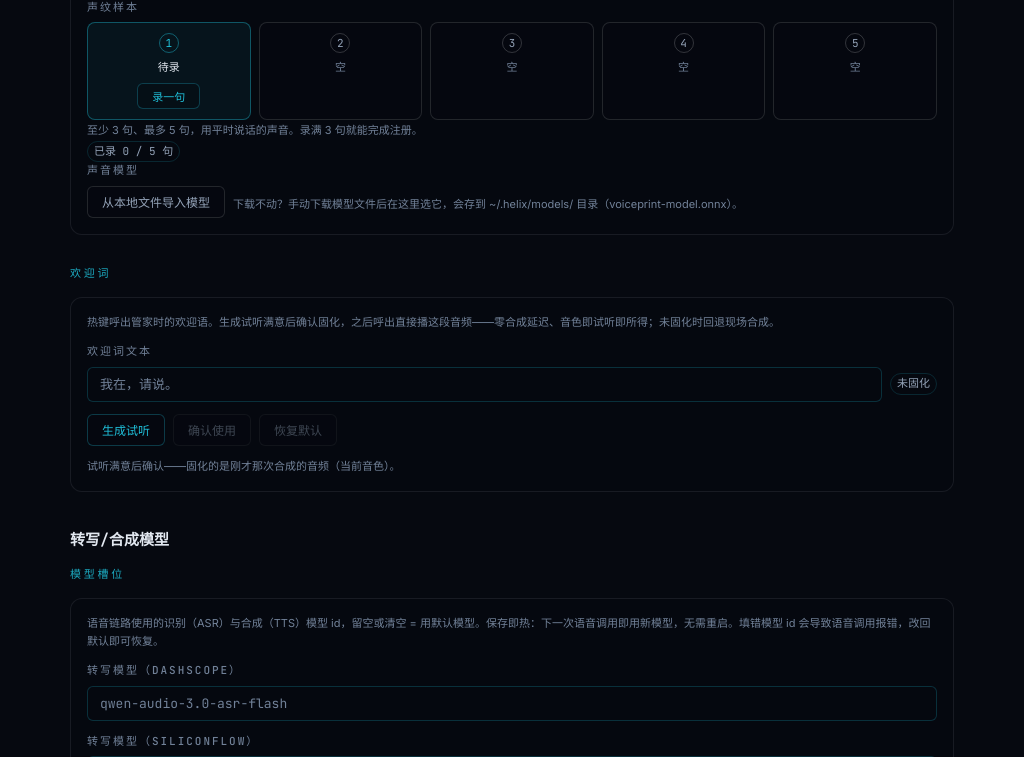
it: 欢迎词工坊（生成试听 → 确认固化 → 恢复默认） › 生成失败（status error）：toast 报错，确认钮保持禁用
The width and height of the screenshot is (1024, 757).
(page scrolled)
Step 1. Type "你好。" into the field with id "tts-welcome-text" → (484, 384), box [87,367,882,402]
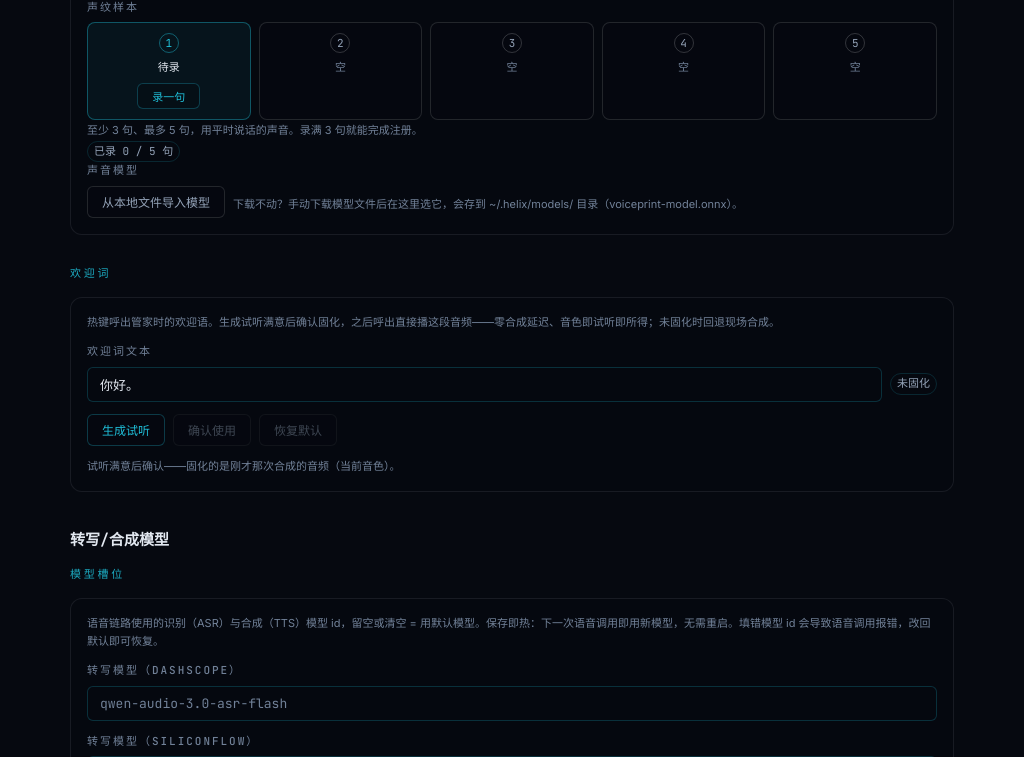
Step 2. Click the button "生成试听" → (126, 430), box [87,414,165,446]
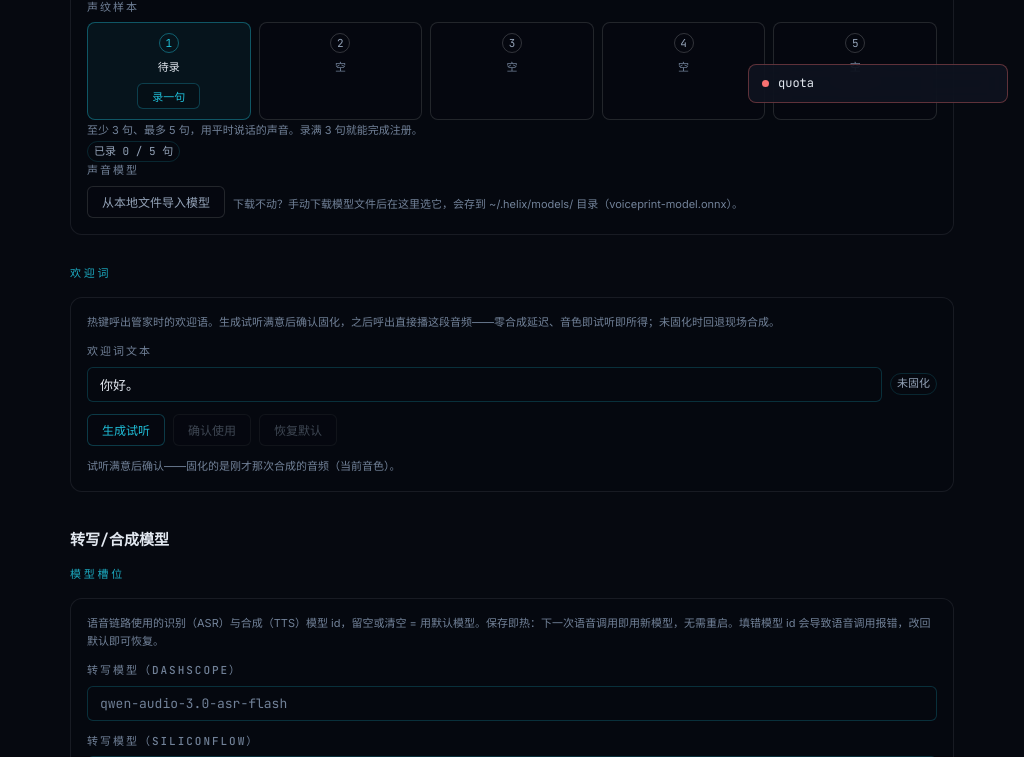
Check: the button "确认使用" is disabled, box [173,414,251,446]
Check: the text "quota" is shown, box [778,74,814,93]
